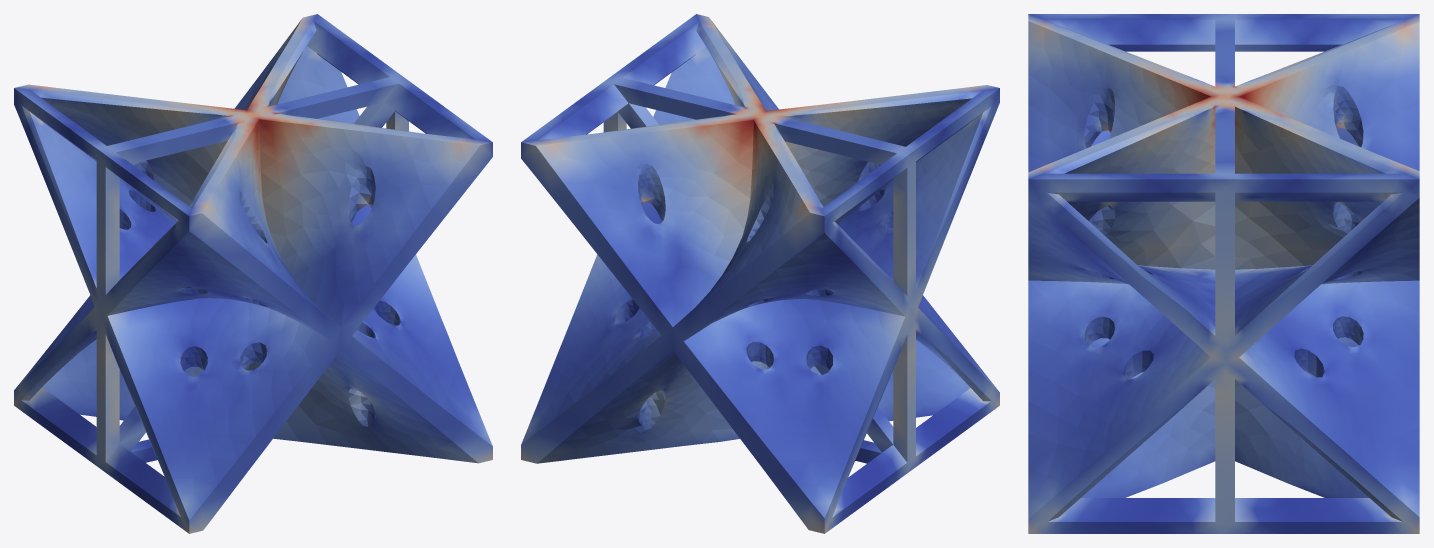
3 renders of one model, left to right at view 1: azimuth 30°, elevation 25°; view 2: azimuth 150°, elevation 25°; view 3: azimuth 270°, elevation 25°, orthographic. The views are drawn at different scales.
Parts seen in each view (by area): view 1: C1; view 2: C1; view 3: C1.
Part boxes in pixels (<box>): C1: <box>14,14,492,533</box>; C1: <box>521,14,999,533</box>; C1: <box>1028,14,1419,533</box>.
Bounding box in the file's own units: 25.2 × 25.2 × 25.2.
